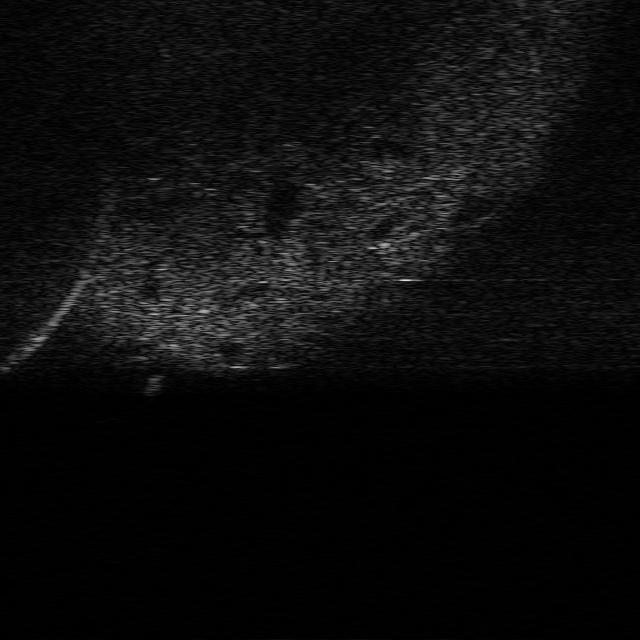cylinder: (141, 372, 165, 397)
